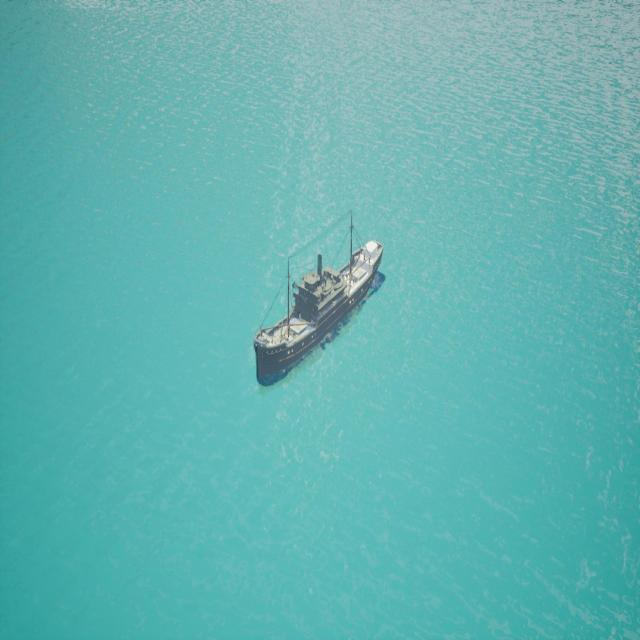fishing ship: (254, 239, 386, 387)
